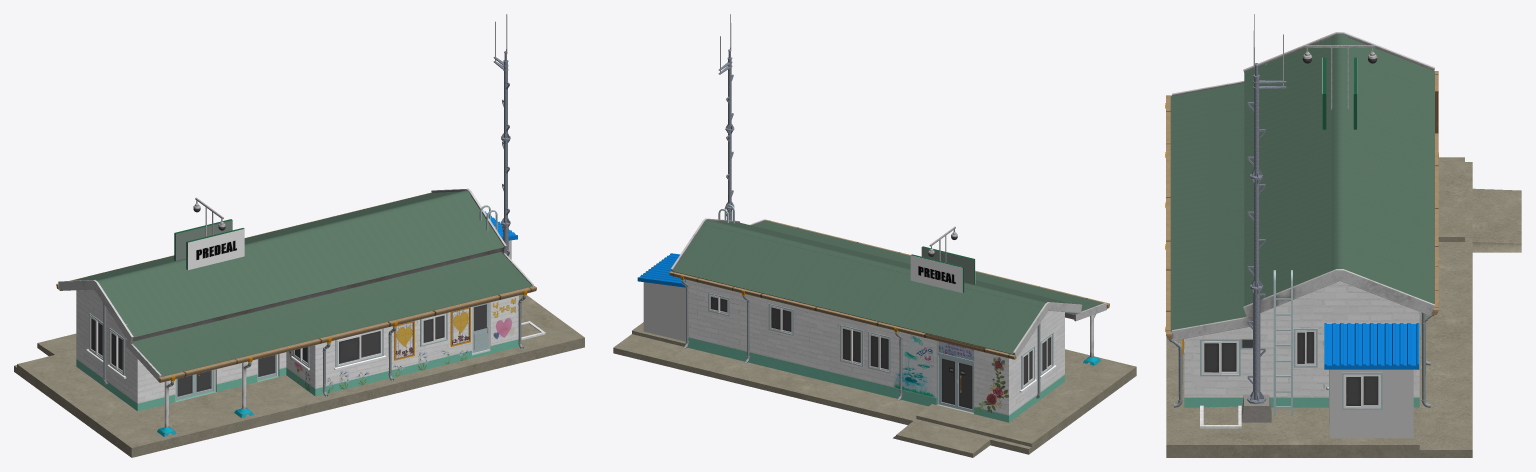
Rendered from train_station.obj.
3 renders of one model, left to right at view 1: azimuth 30°, elevation 25°; view 2: azimuth 150°, elevation 25°; view 3: azimuth 270°, elevation 25°, orthographic. The views are drawn at different scales.
Visible parts, largest first — view 1: obj1, obj2; view 2: obj1, obj2; view 3: obj1, obj2.
Boxes of the visible parts, x1,y1,x2,y2 form: obj1: (14,188,584,457); obj2: (89,14,527,436); obj1: (613,218,1136,457); obj2: (680,14,1100,412); obj1: (1166,32,1521,457); obj2: (1165,14,1438,424).
Bounding box in the file's own units: 19.18 × 12.92 × 10.03.
Materials: 2 (2 with a texture image).
